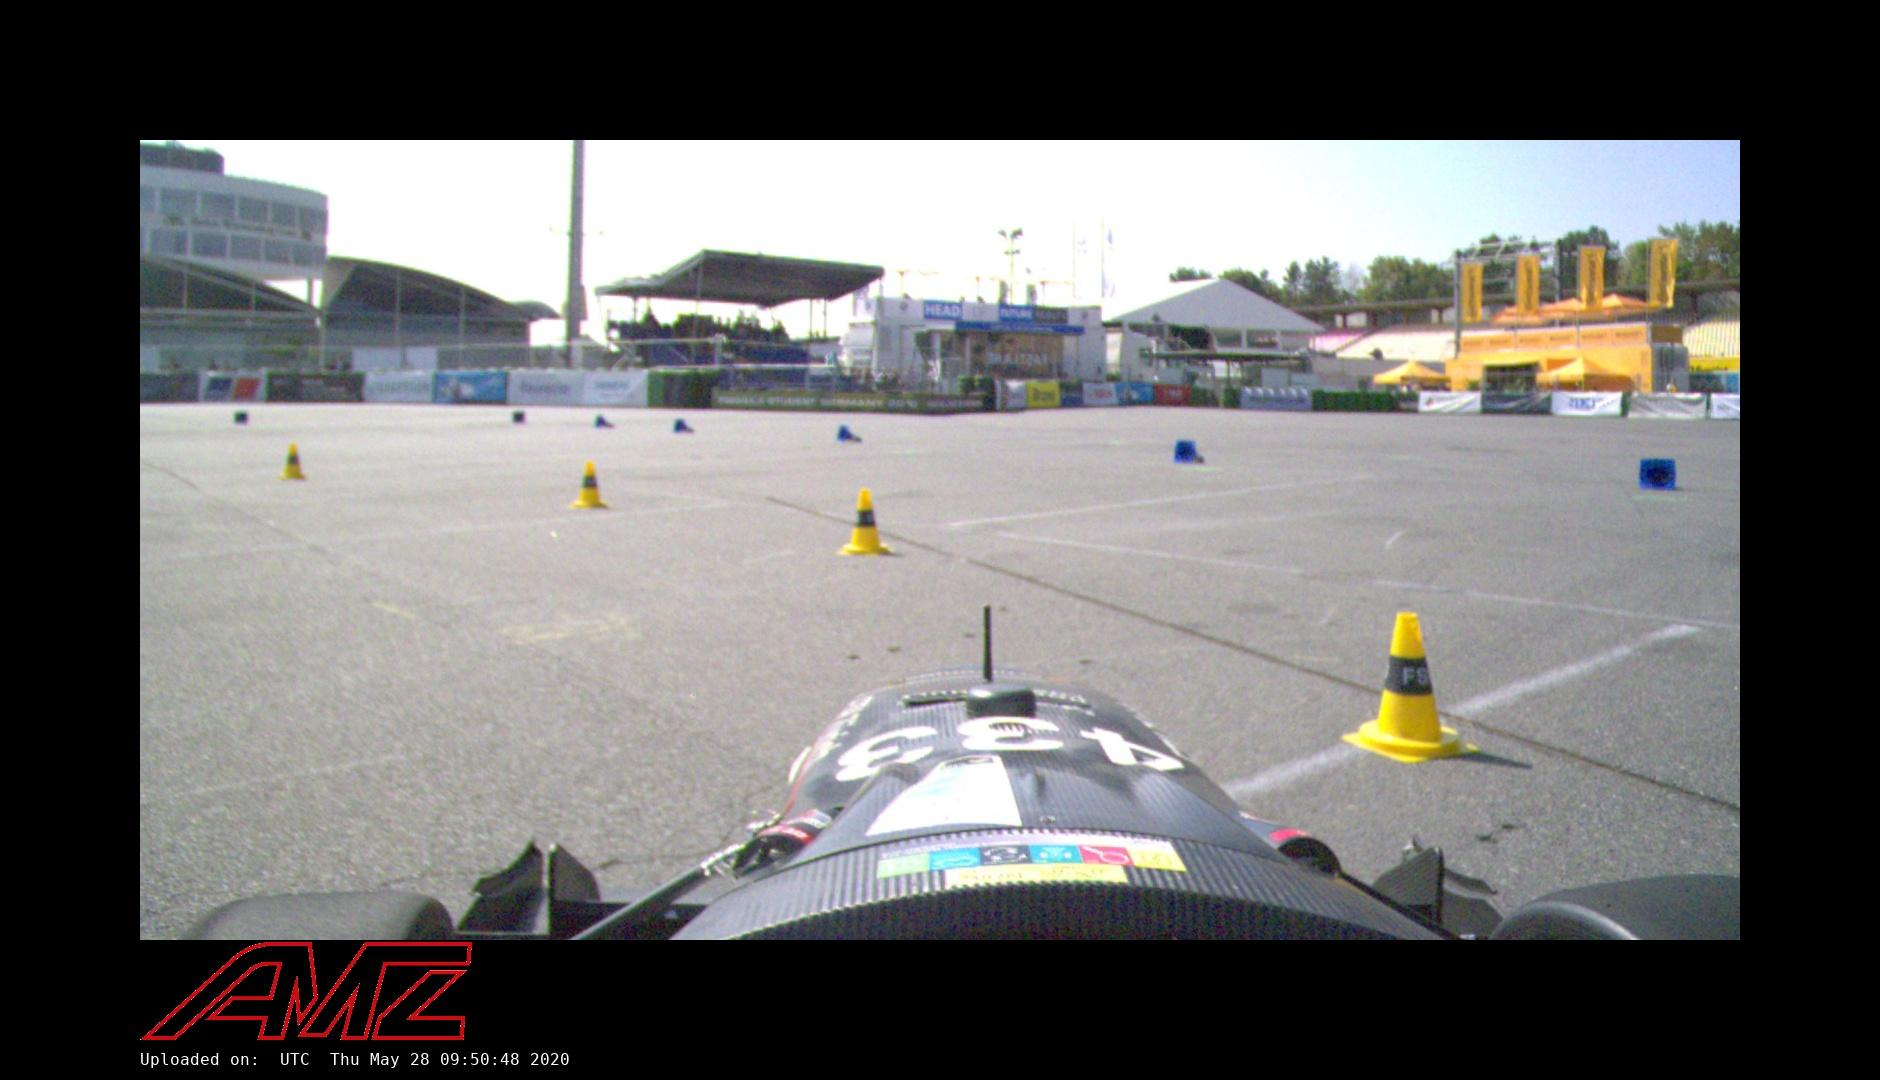blue_cone: (1637, 455, 1679, 492), (1171, 435, 1207, 465), (833, 425, 863, 444), (671, 417, 695, 434), (593, 413, 615, 429)
yellow_cone: (1338, 610, 1480, 767), (833, 487, 896, 558), (568, 460, 611, 512), (275, 442, 309, 484)
